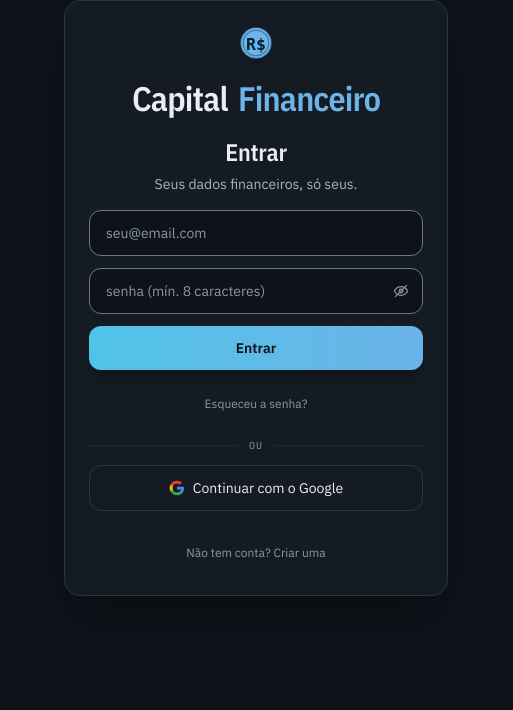
Test case: Auth — confirmação de e-mail no cadastro › cadastro que falha não dispara e-mail nenhum
Click the button "Não tem conta? Criar uma". click: (256, 553)
box: [89,531,423,575]
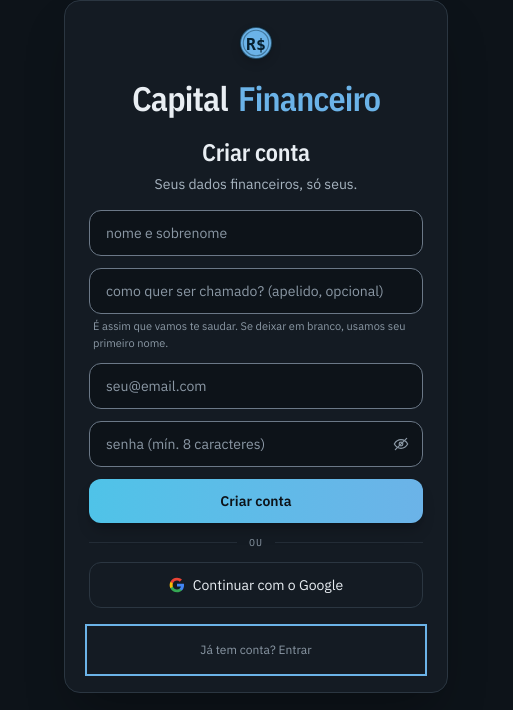
Type "Ana Souza" into the field named "Nome completo". click: (256, 233)
box: [89,210,423,256]
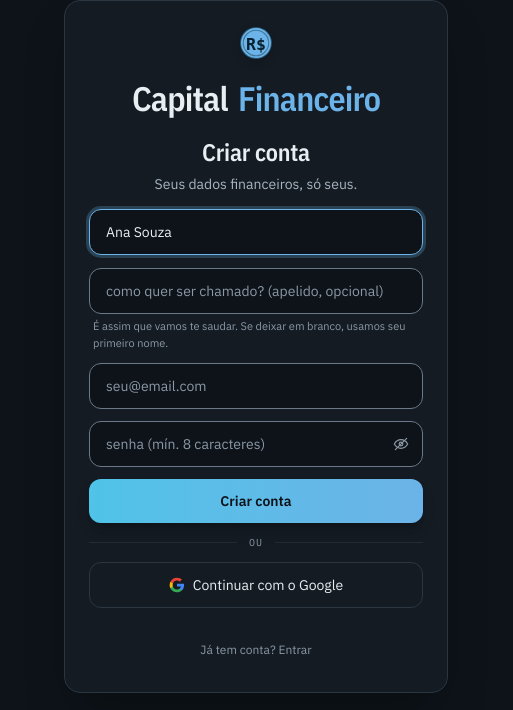
Type "ana@exemplo.com" into the field named "E-mail". click: (256, 386)
box: [89,363,423,409]
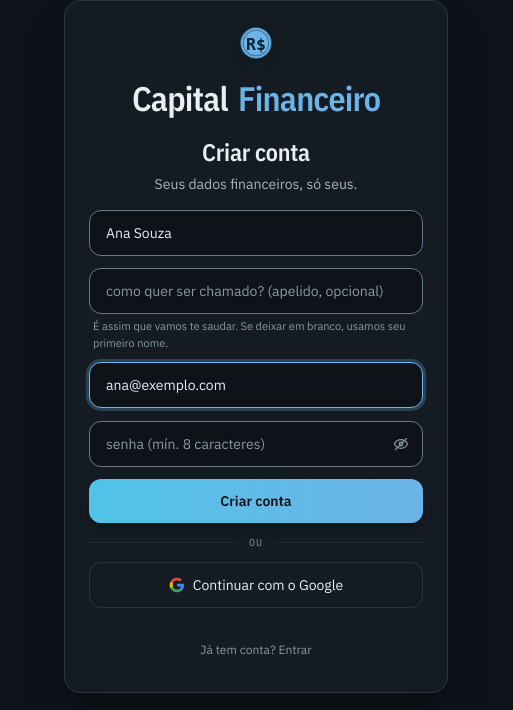
Type "senha-bem-grande" into the password field labelled "senha". click: (256, 444)
box: [89,421,423,467]
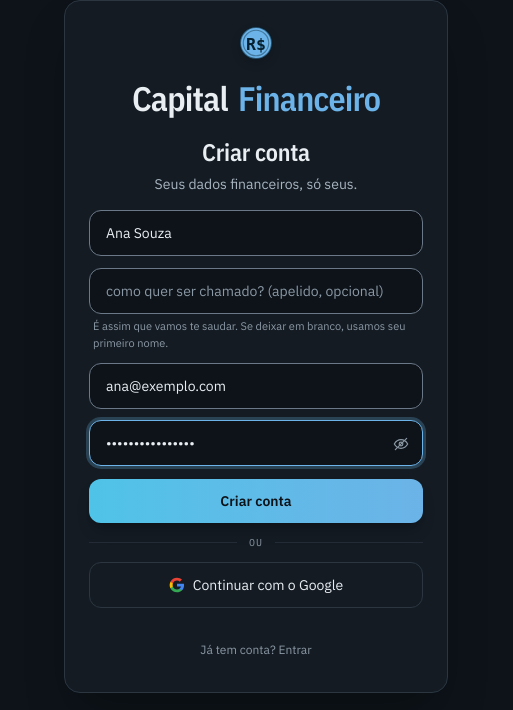
Click the button "Criar conta". click: (256, 501)
box: [89,479,423,523]
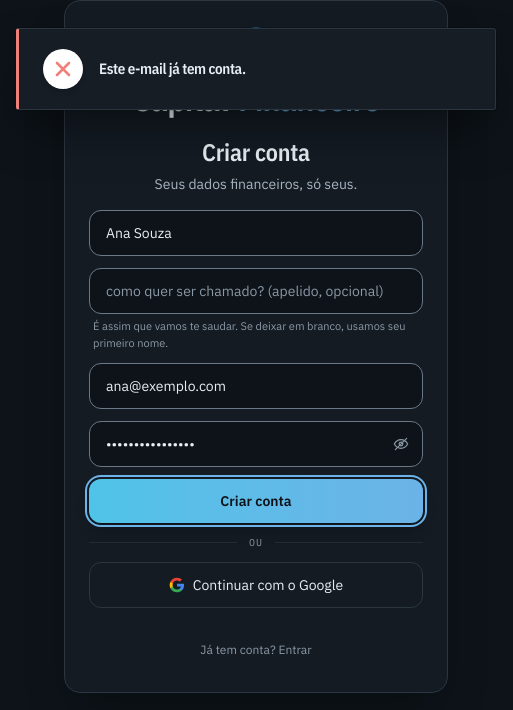
Now the text "Este e-mail já tem conta." is shown, box [99,59,246,79]
